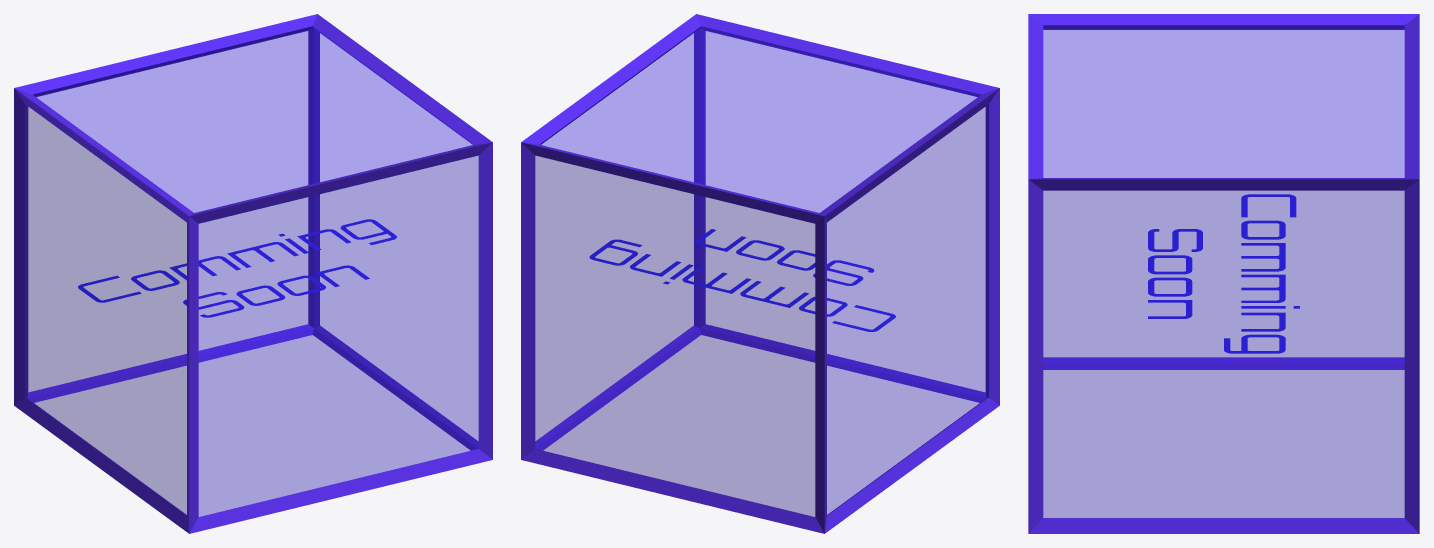
The model's file is animatedCommingSoon4.glb.
The picture shows the model from 3 angles, left to right: view 1: azimuth 30°, elevation 25°; view 2: azimuth 150°, elevation 25°; view 3: azimuth 270°, elevation 25°; orthographic projection. The views are drawn at different scales.
Visible parts, largest first — view 1: Cube.001, Cube, Comming Soon; view 2: Cube.001, Cube, Comming Soon; view 3: Cube.001, Cube, Comming Soon.
Part boxes in pixels (box(x1,y1,x2,y2)): Cube.001: box(25, 26, 478, 516); Cube: box(14, 14, 492, 533); Comming Soon: box(78, 219, 396, 317); Cube.001: box(535, 26, 988, 516); Cube: box(521, 14, 999, 533); Comming Soon: box(589, 229, 895, 331); Cube.001: box(1043, 25, 1404, 517); Cube: box(1028, 14, 1419, 533); Comming Soon: box(1148, 194, 1299, 353).
Size of the model in its own units: 2.06 by 2.06 by 2.06.
